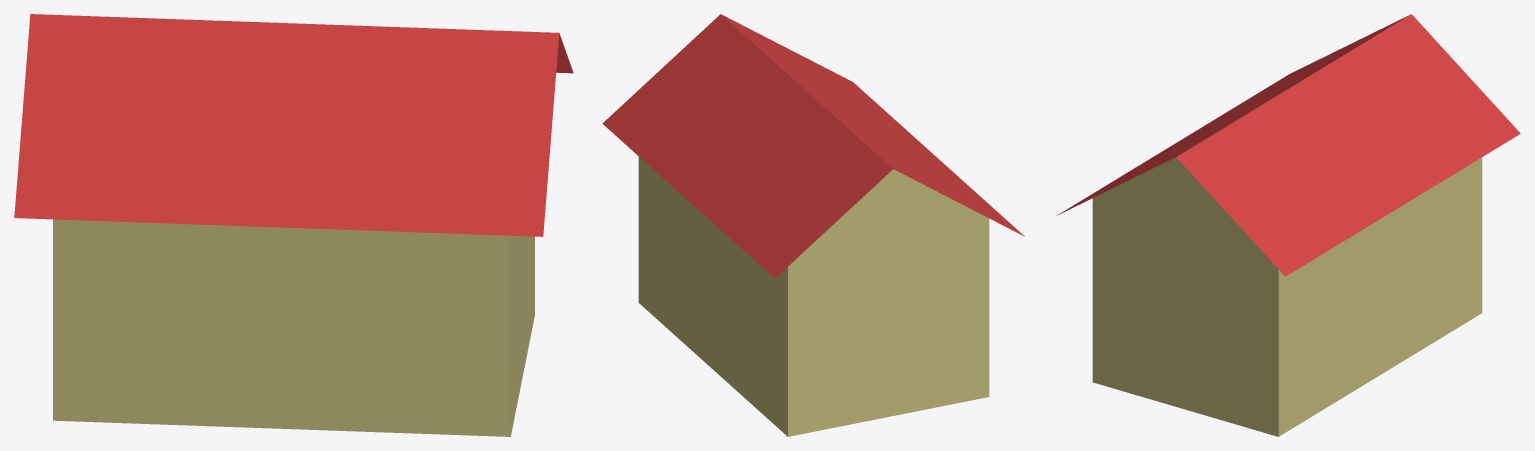
The picture shows the model from 3 angles, left to right: view 1: azimuth 30°, elevation 25°; view 2: azimuth 150°, elevation 25°; view 3: azimuth 270°, elevation 25°; orthographic projection. The views are drawn at different scales.
Bounding box in the file's own units: 18.02 × 16.84 × 10.51.
